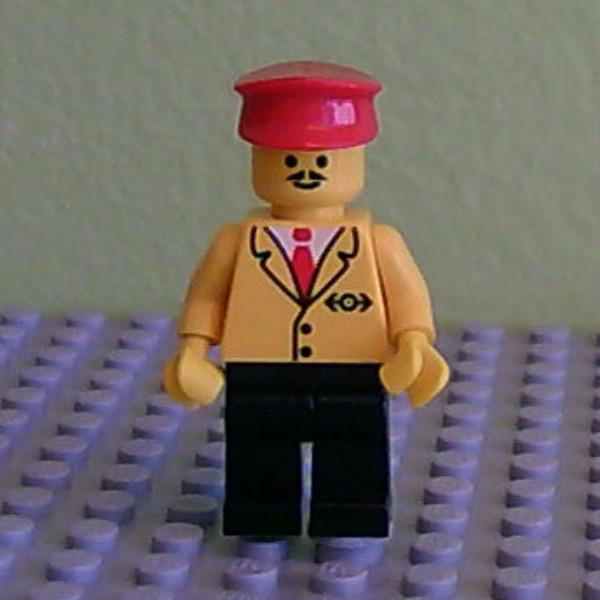lego: (161, 45, 458, 551)
